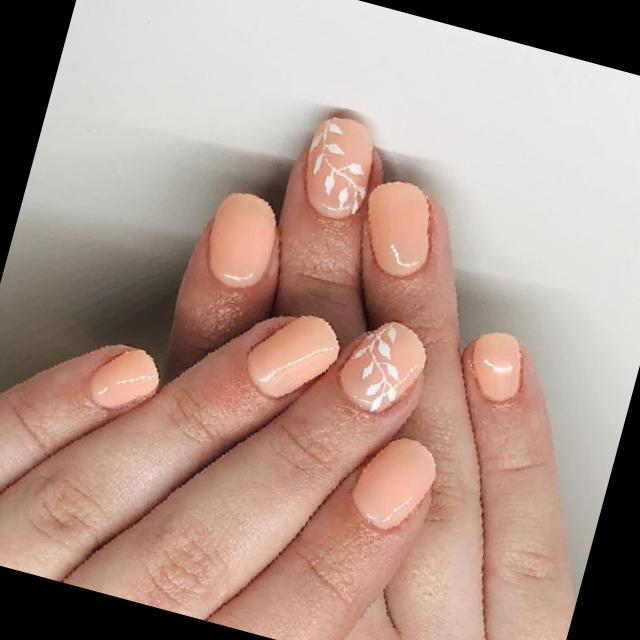Nail: (338, 320, 425, 411), (350, 437, 435, 527), (246, 315, 339, 397), (303, 116, 372, 218), (207, 193, 276, 287), (366, 181, 429, 276), (88, 348, 158, 408), (470, 331, 521, 400)
